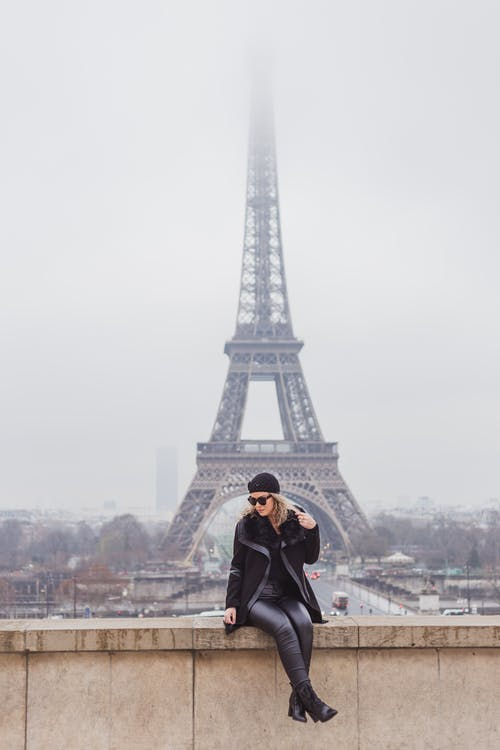eiffel tower: (144, 22, 394, 555)
